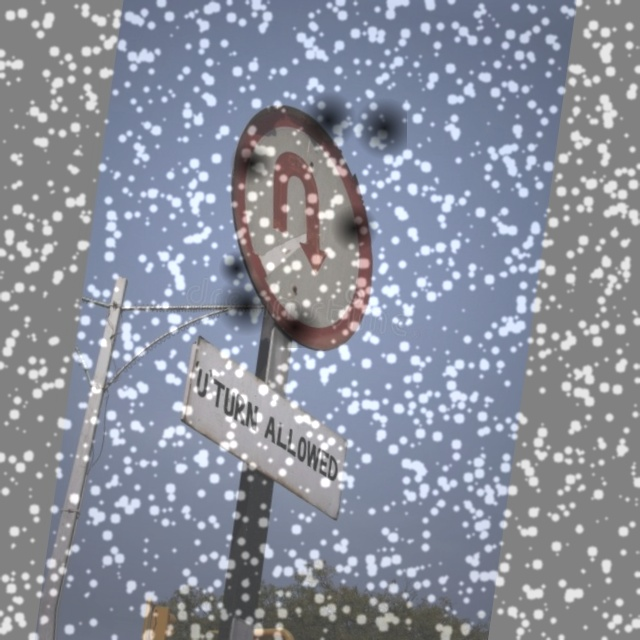U_Turn_Ahead: (200, 90, 407, 348)
